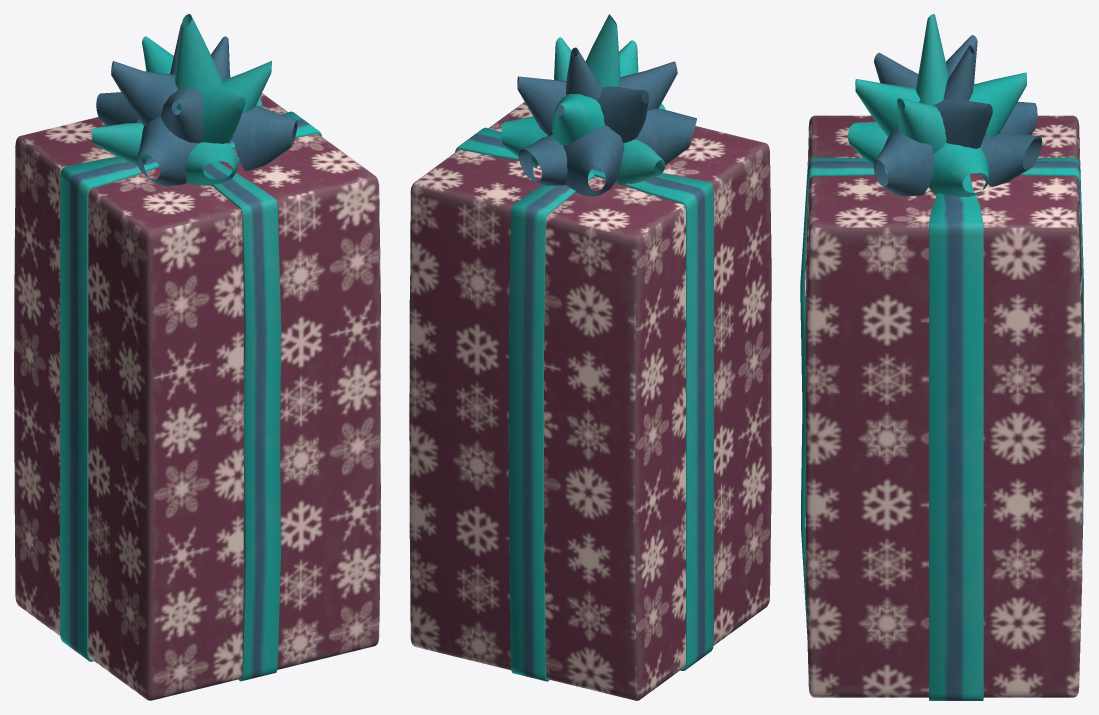
Rendered from Gift0103.gltf.
3 renders of one model, left to right at view 1: azimuth 30°, elevation 25°; view 2: azimuth 150°, elevation 25°; view 3: azimuth 270°, elevation 25°, orthographic.
Visible parts, largest first — view 1: Present; view 2: Present; view 3: Present.
Boxes of the visible parts, <box> form: Present: <box>14,14,380,700</box>; Present: <box>409,14,771,700</box>; Present: <box>800,14,1084,700</box>.
Bounding box in the file's own units: 0.0676 × 0.1705 × 0.0703.
1 material, 1 textured.
